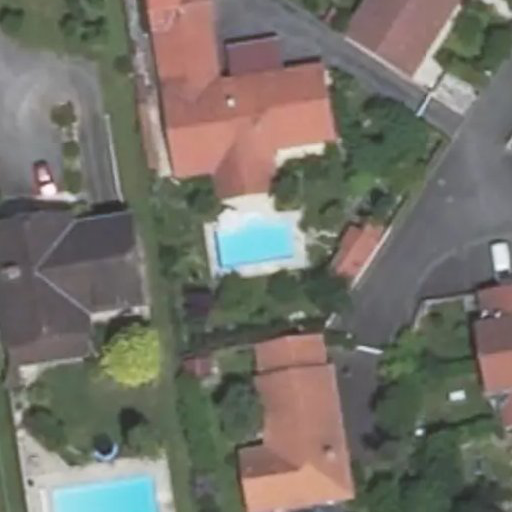pool: (215, 222, 297, 261)
